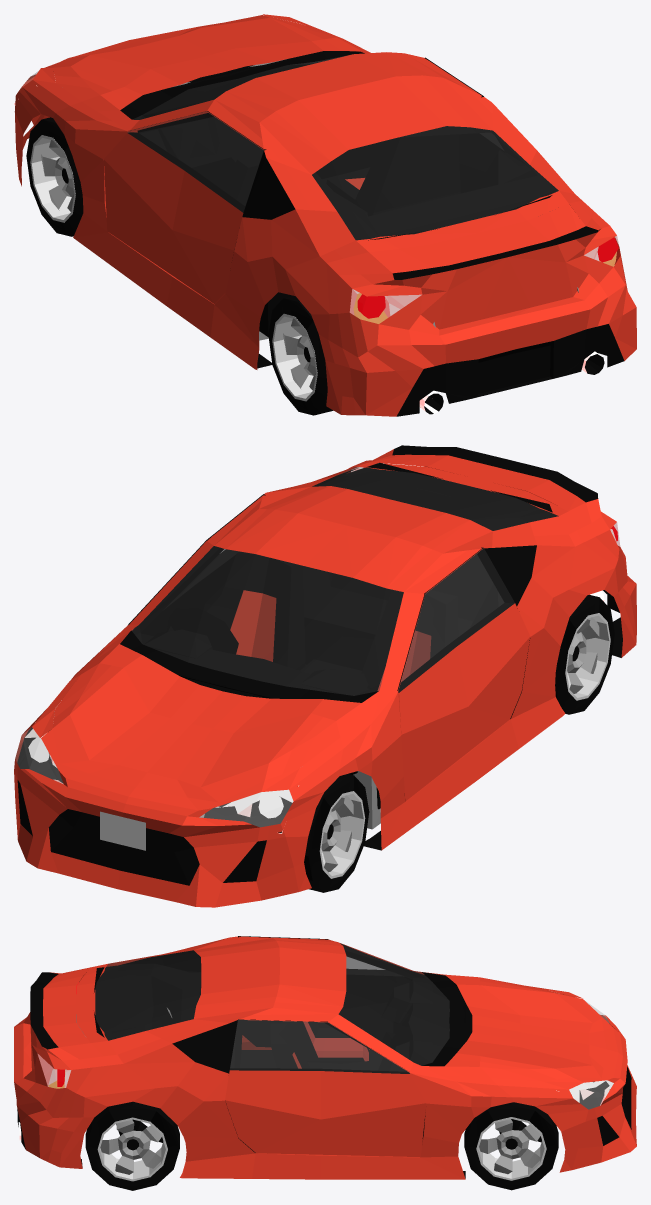
The picture shows the model from 3 angles, top to bottom: view 1: azimuth 30°, elevation 25°; view 2: azimuth 150°, elevation 25°; view 3: azimuth 270°, elevation 25°; orthographic projection. The views are drawn at different scales.
Visible parts, largest first — view 1: body, door_L, interior, trunk, hood, seat_R, wheel_RL, wheel_FL, taillight, door_R, seat_L, exhaust; view 2: body, hood, front, interior, door_L, seat_R, wheel_FL, trunk, wheel_RL, seat_L, headlight, door_R (+3 smaller); view 3: body, door_R, hood, interior, wheel_RR, wheel_FR, front, door_L, trunk, seat_L, seat_R, headlight (+2 smaller).
Part boxes in pixels (box(x1,y1,x2,y2)): body: box(14, 14, 636, 416); door_L: box(104, 111, 266, 303); interior: box(133, 53, 558, 337); trunk: box(369, 203, 597, 329); hood: box(53, 16, 369, 121); seat_R: box(326, 134, 460, 216); wheel_RL: box(268, 295, 333, 415); wheel_FL: box(26, 117, 83, 236); taillight: box(349, 237, 618, 323); door_R: box(425, 57, 505, 193); seat_L: box(223, 158, 260, 205); exhaust: box(419, 351, 604, 414); body: box(15, 449, 636, 891); hood: box(52, 631, 379, 810); front: box(14, 727, 298, 907); interior: box(132, 462, 558, 809); door_L: box(397, 547, 530, 801); seat_R: box(213, 551, 305, 670); wheel_FL: box(304, 774, 369, 892); trunk: box(369, 445, 598, 511); wheel_RL: box(555, 594, 614, 714); seat_L: box(361, 590, 458, 690); headlight: box(17, 722, 298, 833); door_R: box(128, 494, 265, 636); body: box(14, 936, 588, 1179); door_R: box(225, 1019, 426, 1156); hood: box(422, 972, 618, 1081); interior: box(94, 943, 466, 1138); wheel_RR: box(85, 1101, 179, 1190); wheel_FR: box(464, 1102, 558, 1190); front: box(569, 997, 636, 1169); door_L: box(238, 936, 411, 1047); trunk: box(30, 967, 90, 1070); seat_L: box(280, 1021, 368, 1063); seat_R: box(270, 1023, 310, 1068); headlight: box(556, 1080, 609, 1109).
Bounding box in the file's own units: 2.28 × 1.55 × 5.13.
